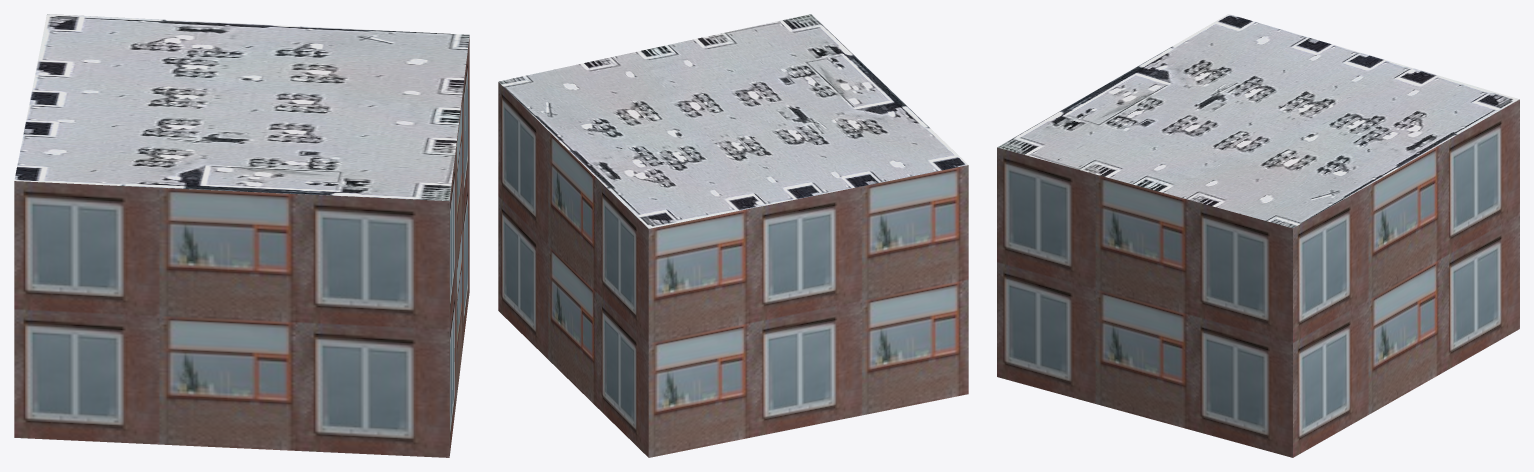
The model's file is ResTex__228.fbx.
3 renders of one model, left to right at view 1: azimuth 30°, elevation 25°; view 2: azimuth 150°, elevation 25°; view 3: azimuth 270°, elevation 25°, orthographic. The views are drawn at different scales.
Parts seen in each view (by area): view 1: CityEngineMaterial_19_m, CityEngineMaterial_m; view 2: CityEngineMaterial_19_m, CityEngineMaterial_m; view 3: CityEngineMaterial_19_m, CityEngineMaterial_m.
Part boxes in pixels (box(x1,y1,x2,y2)): CityEngineMaterial_19_m: box(14, 36, 469, 457); CityEngineMaterial_m: box(14, 14, 469, 201); CityEngineMaterial_19_m: box(498, 82, 968, 457); CityEngineMaterial_m: box(498, 14, 967, 228); CityEngineMaterial_19_m: box(997, 99, 1519, 457); CityEngineMaterial_m: box(997, 14, 1519, 228).
Bounding box in the file's own units: 12.02 × 6 × 12.38.
2 materials, 2 textured.
